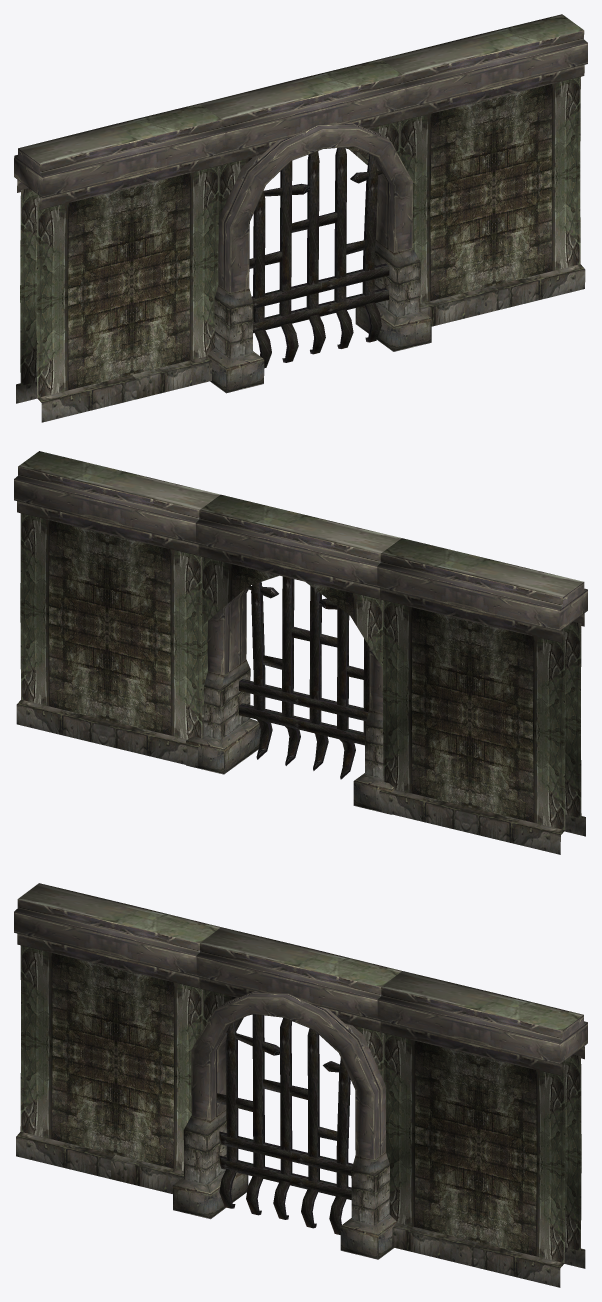
The model's file is S_Build_Muxue051.FBX.
3 renders of one model, top to bottom at view 1: azimuth 30°, elevation 25°; view 2: azimuth 150°, elevation 25°; view 3: azimuth 330°, elevation 25°, orthographic.
Visible parts, largest first — view 1: S_Build_Muxue051; view 2: S_Build_Muxue051; view 3: S_Build_Muxue051.
Part boxes in pixels (left/top/right/bottom): S_Build_Muxue051: left=14, top=14, right=587, bottom=422; S_Build_Muxue051: left=14, top=451, right=587, bottom=854; S_Build_Muxue051: left=14, top=883, right=587, bottom=1287.
Bounding box in the file's own units: 1485 × 200 × 675.
